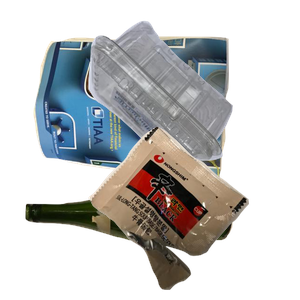glass: (23, 186, 249, 300)
paper: (31, 34, 252, 205)
plastic: (86, 18, 300, 171)
trash: (86, 124, 300, 300)
